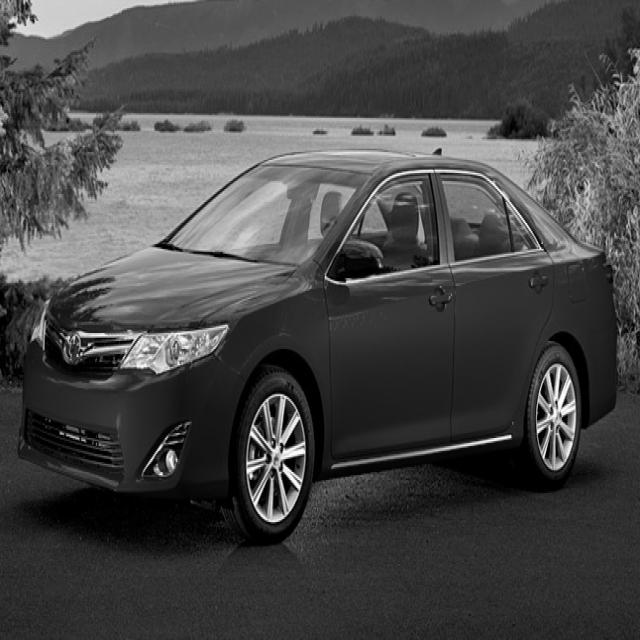car: (17, 146, 617, 544)
